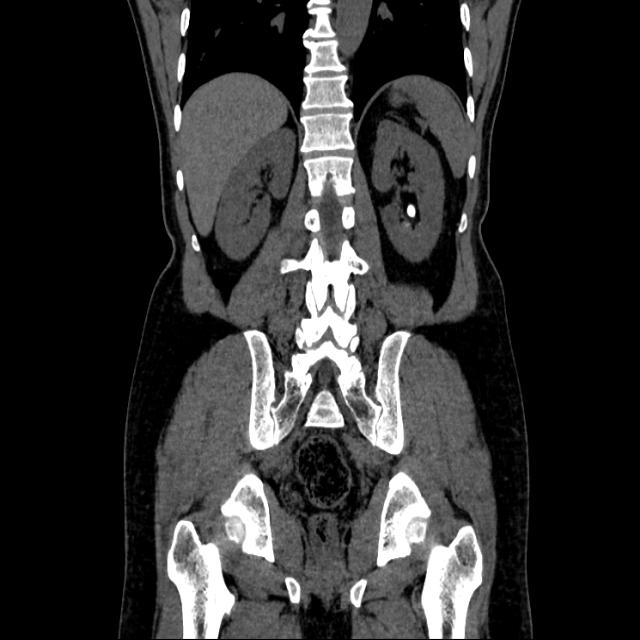kidneystone: (404, 200, 419, 221)
